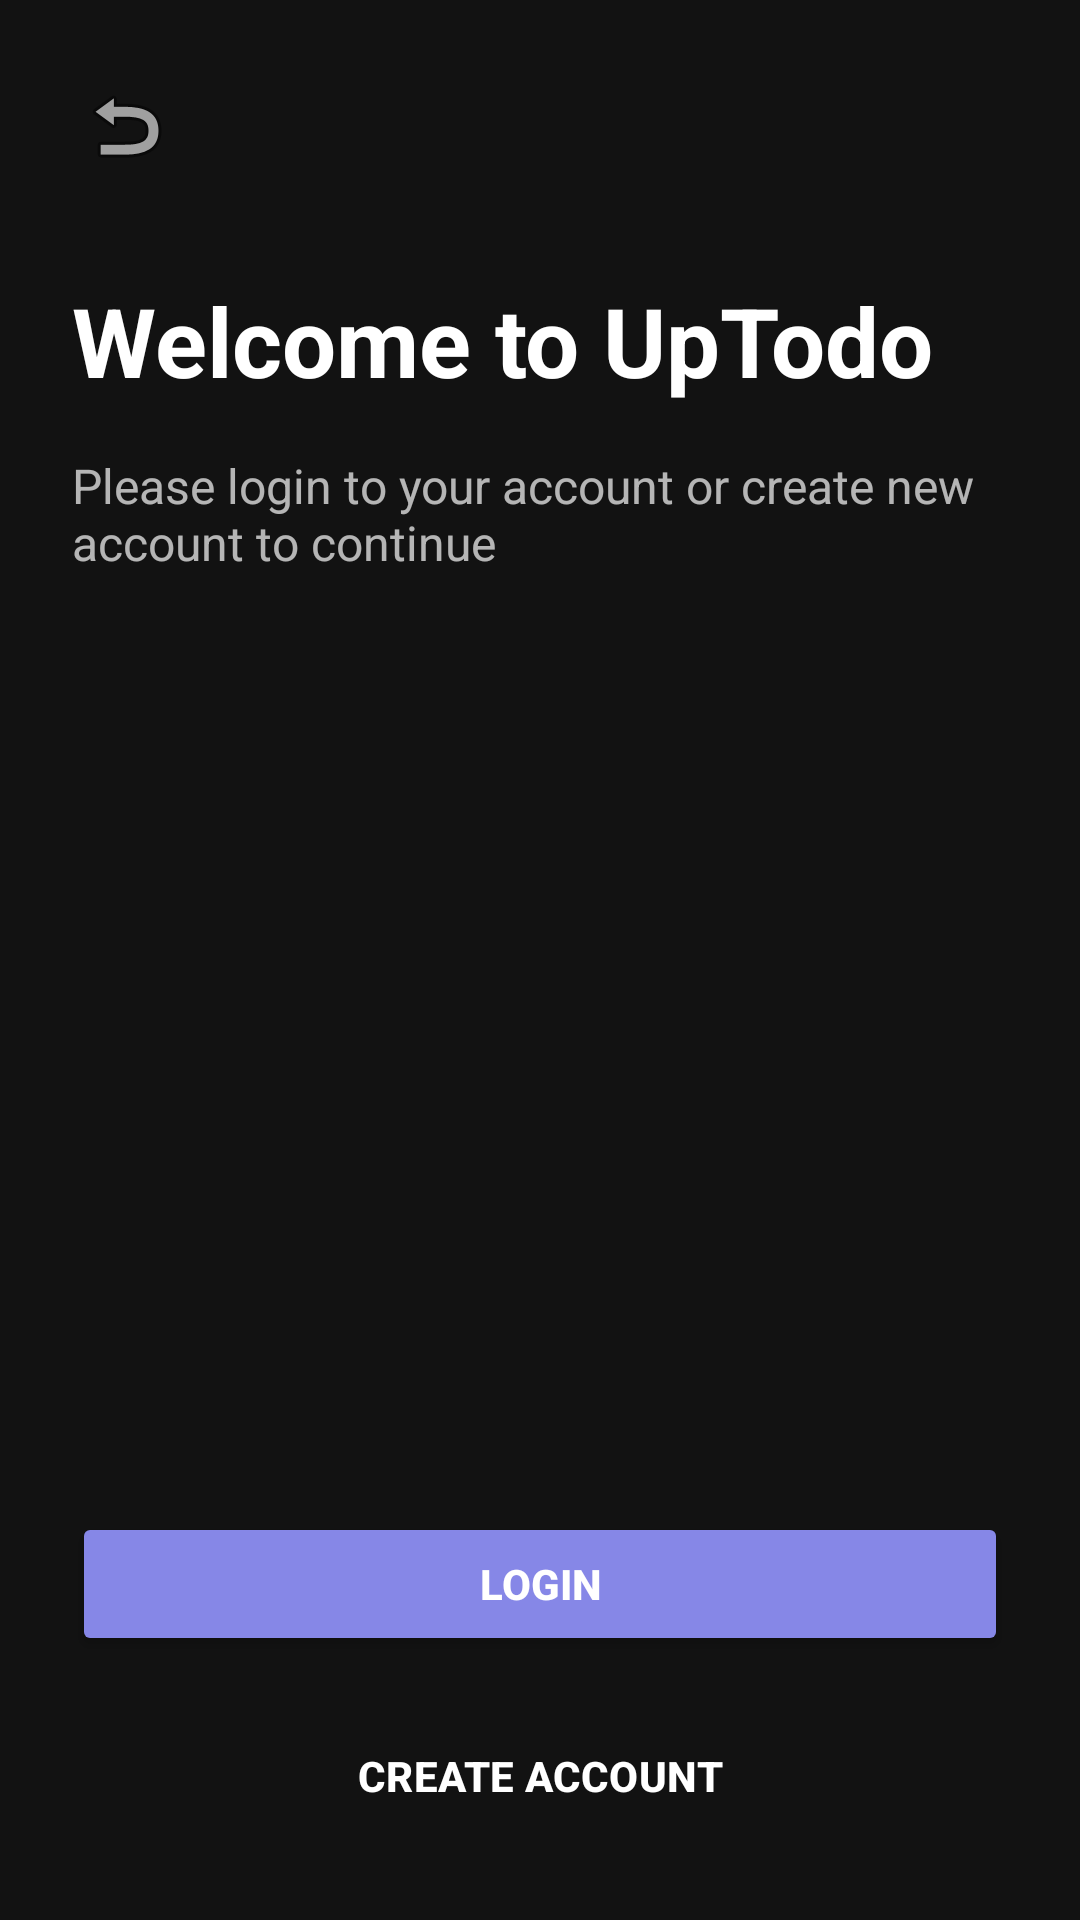

Point at icon controls on the screen. Image size 1080px×1920px, points as [x,y].
Back: [127,126]
